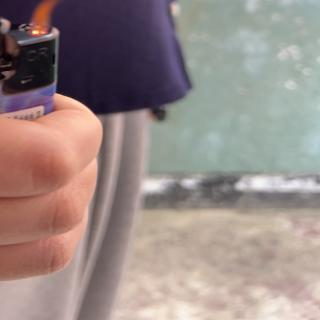fire: (24, 0, 74, 33)
